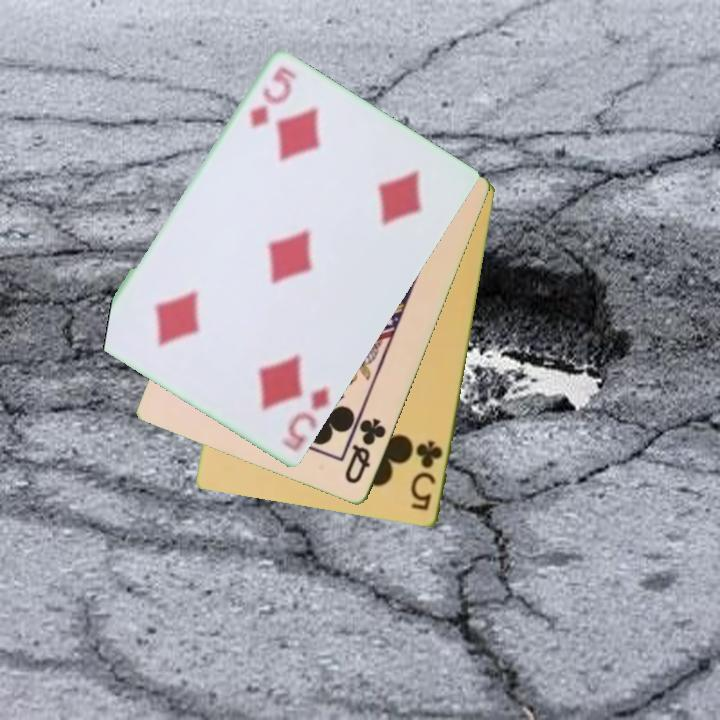5c: (407, 437, 446, 514)
5d: (283, 382, 334, 455), (246, 63, 297, 132)
Qc: (341, 415, 390, 488)
